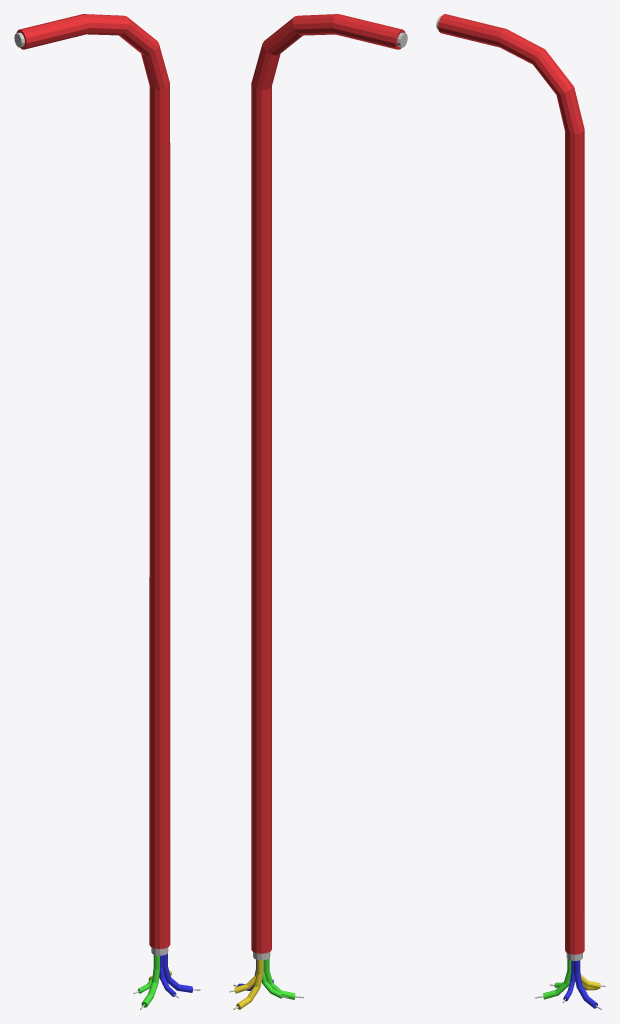
Rendered from cable_broken.glb.
3 views of the same model, side by side, from view 1: azimuth 30°, elevation 25°; view 2: azimuth 150°, elevation 25°; view 3: azimuth 330°, elevation 25° (orthographic). The views are drawn at different scales.
Visible parts, largest first — view 1: Plane; view 2: Plane; view 3: Plane.
Boxes of the visible parts, bbox=[...] form: Plane: bbox=[14, 14, 200, 1009]; Plane: bbox=[229, 14, 407, 1009]; Plane: bbox=[436, 14, 605, 1009].
Size of the model in its own units: 0.3918 by 2.12 by 0.1311.
